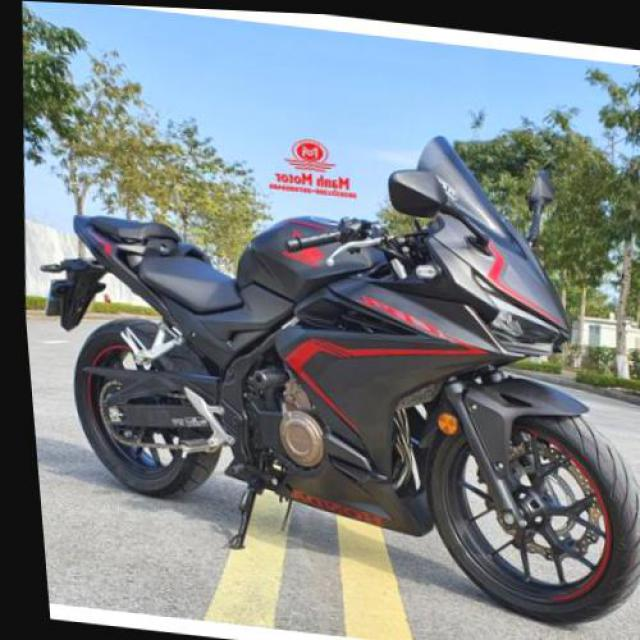CBR500R: (5, 86, 639, 634)
